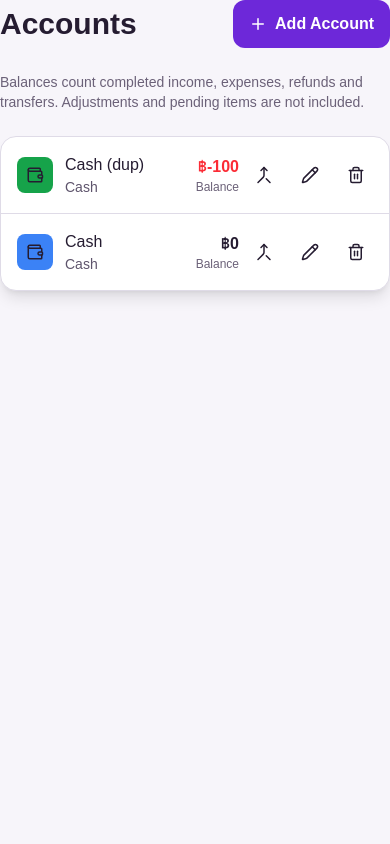
Test: Accounts page (add / edit / delete flow) › merges an account into another, reassigning its transactions
Click the button named "Merge Cash (dup)": (264, 175) [247,158,281,192]
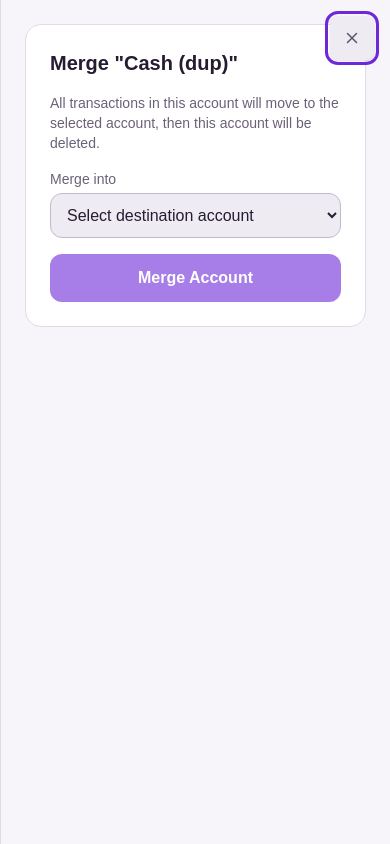
Select "Cash" in the dropdown labelled "Merge into": (196, 216) [50,193,341,238]
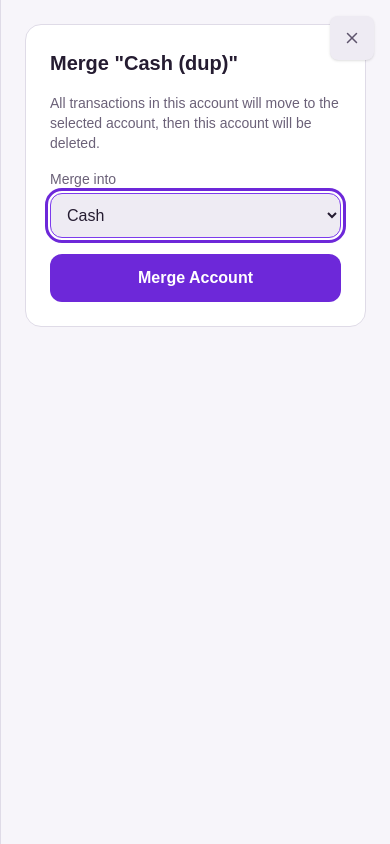
Click the button "Merge Account": (196, 278) [50,254,341,302]
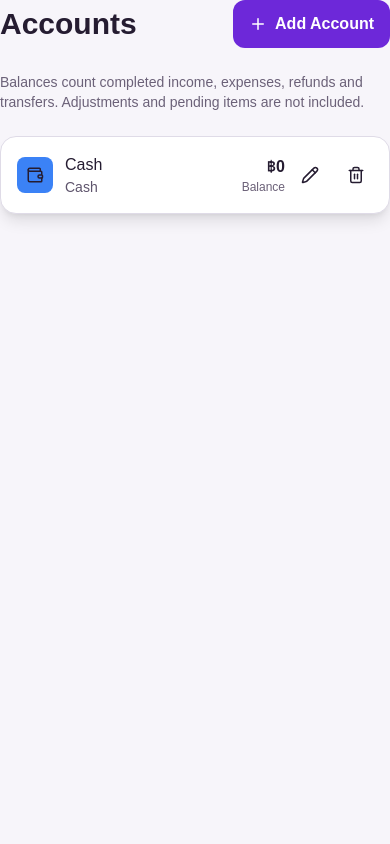
Check: the 1st text "Cash" is shown, box [65,153,102,177]
Check: the text "Cash (dup)" is gone
